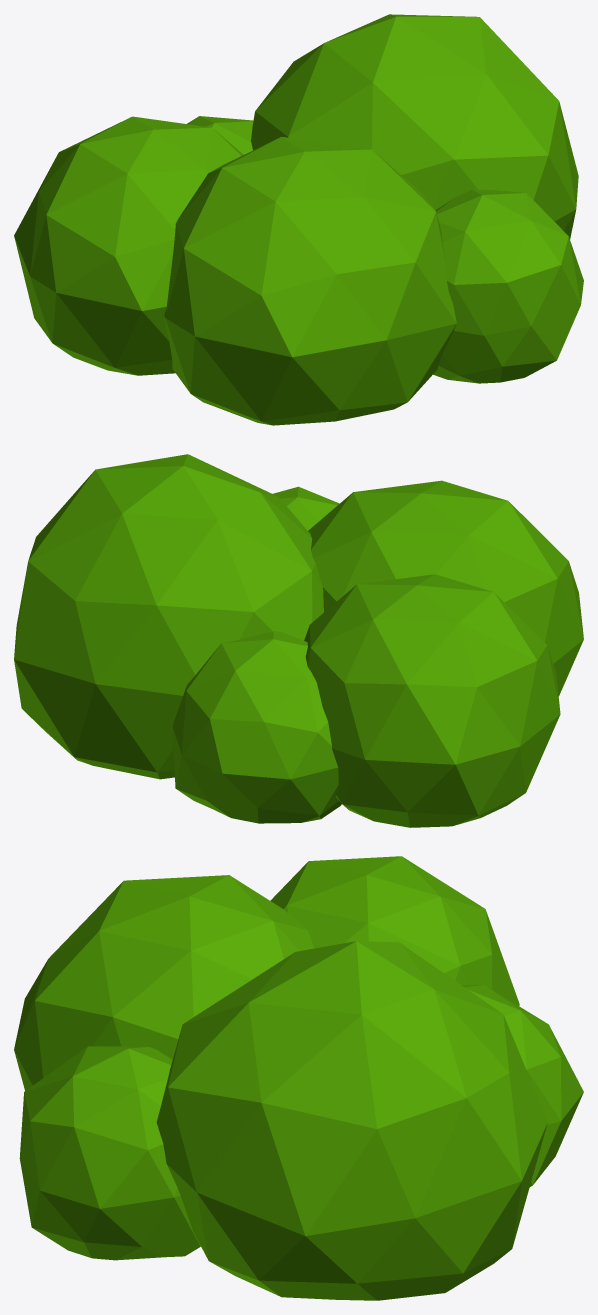
File: Bush.fbx
3 views of the same model, one above another, from view 1: azimuth 30°, elevation 25°; view 2: azimuth 150°, elevation 25°; view 3: azimuth 270°, elevation 25° (orthographic). The views are drawn at different scales.
Visible parts, largest first — view 1: Bush; view 2: Bush; view 3: Bush.
Boxes of the visible parts, <box> form: Bush: <box>14,14,583,425</box>; Bush: <box>14,454,583,827</box>; Bush: <box>14,856,583,1300</box>.
Bounding box in the file's own units: 266 × 128 × 223.
1 material, 1 textured.
